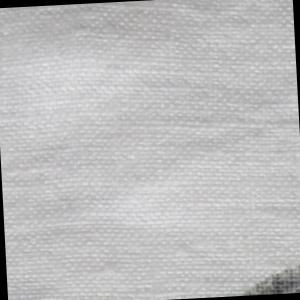Stain: (235, 264, 300, 297)
